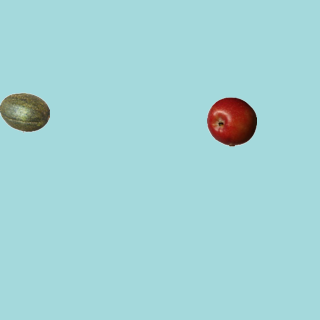Apple Braeburn: (206, 96, 256, 146)
Melon Piel de Sapo: (0, 87, 49, 137)
